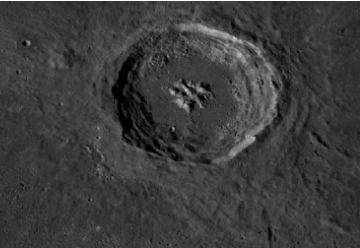crater: (54, 1, 331, 214)
